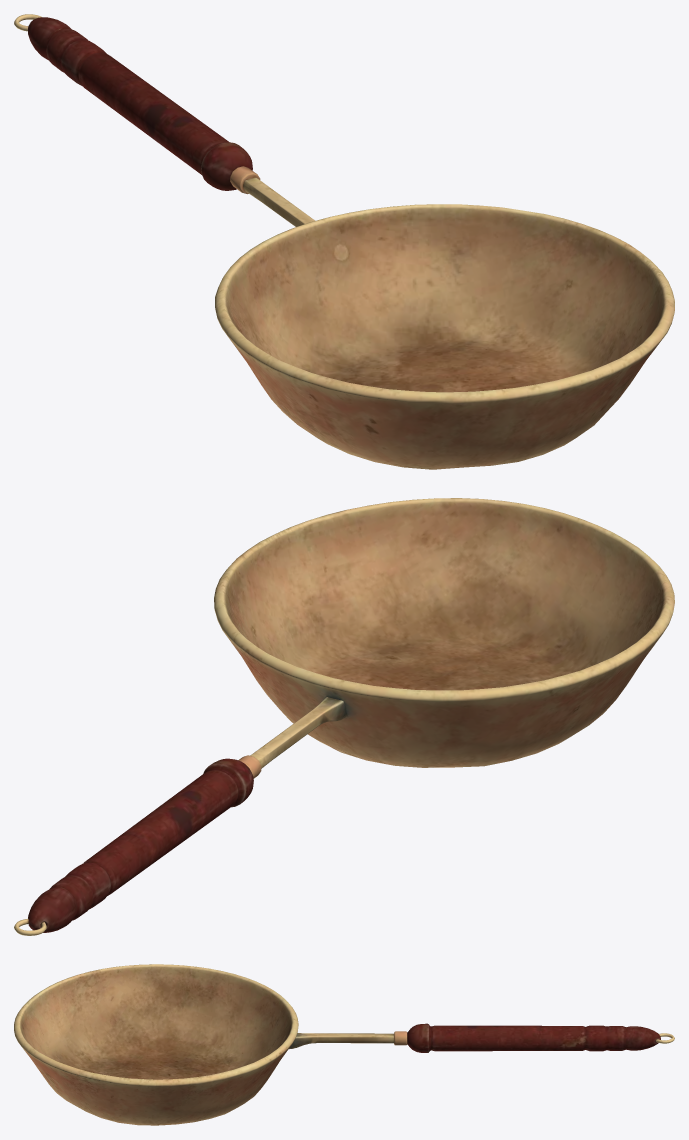
Rendered from pan.glb.
3 renders of one model, top to bottom at view 1: azimuth 30°, elevation 25°; view 2: azimuth 150°, elevation 25°; view 3: azimuth 270°, elevation 25°, orthographic. The views are drawn at different scales.
Visible parts, largest first — view 1: brass_pan_01; view 2: brass_pan_01; view 3: brass_pan_01.
Boxes of the visible parts, <box> form: brass_pan_01: <box>14,14,674,469</box>; brass_pan_01: <box>14,498,674,935</box>; brass_pan_01: <box>14,964,674,1125</box>.
Size of the model in its own units: 0.1913 by 0.0525 by 0.4497.
1 material, 1 textured.
